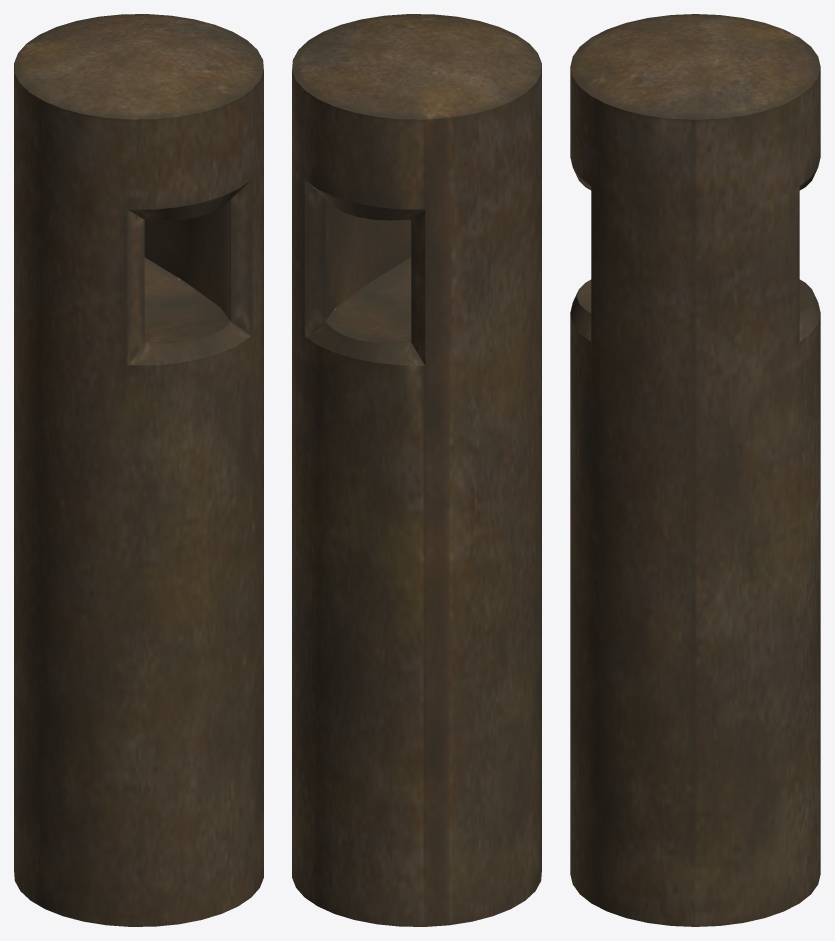
File: Hidden puzzle base.fbx
3 views of the same model, side by side, from view 1: azimuth 30°, elevation 25°; view 2: azimuth 150°, elevation 25°; view 3: azimuth 270°, elevation 25° (orthographic).
Visible parts, largest first — view 1: Cylinder.005; view 2: Cylinder.005; view 3: Cylinder.005.
Part boxes in pixels (box(x1,y1,x2,y2)): Cylinder.005: box(14, 14, 263, 926); Cylinder.005: box(292, 14, 541, 926); Cylinder.005: box(570, 14, 820, 926).
Size of the model in its own units: 39.34 by 143 by 39.34.
Materials: 1 (1 with a texture image).
